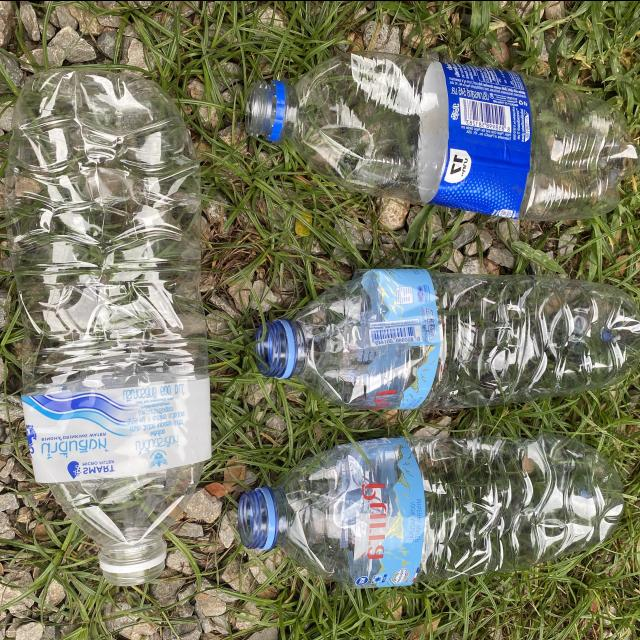plastik: (6, 69, 210, 585), (245, 51, 640, 220), (238, 434, 624, 588), (255, 268, 640, 408)
